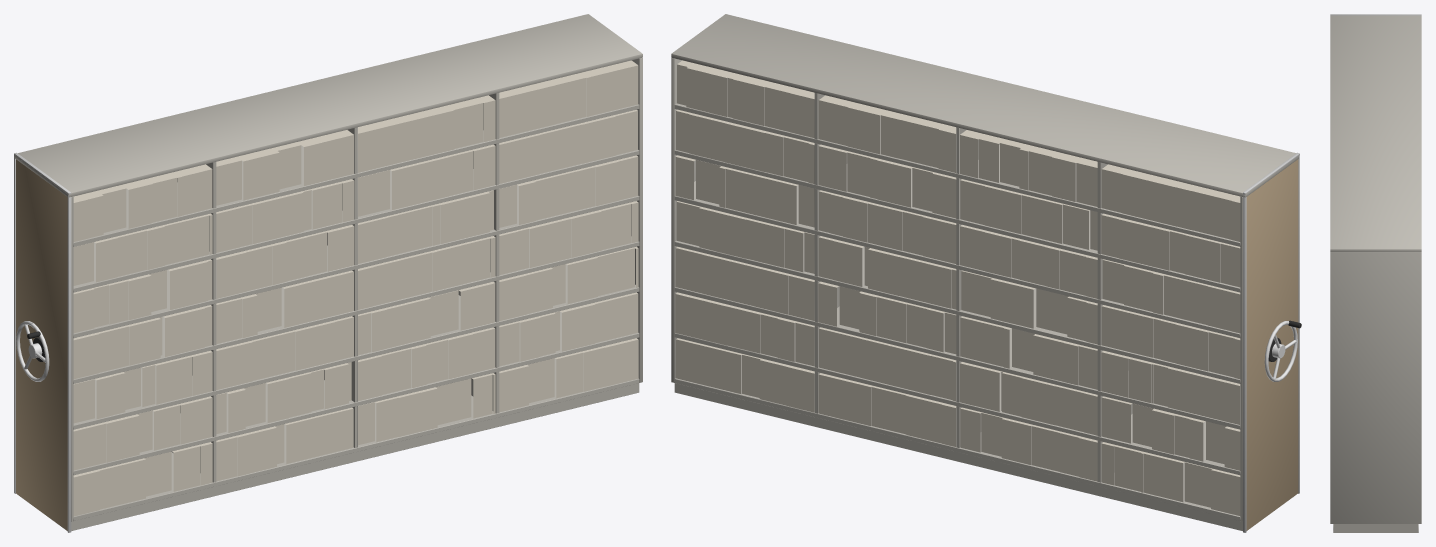
File: Kit_MobileShelving_4.fbx
3 renders of one model, left to right at view 1: azimuth 30°, elevation 25°; view 2: azimuth 150°, elevation 25°; view 3: azimuth 270°, elevation 25°, orthographic. The views are drawn at different scales.
Parts seen in each view (by area): view 1: Kit_MobileShelving_4_LOD0; view 2: Kit_MobileShelving_4_LOD0; view 3: Kit_MobileShelving_4_LOD0.
Boxes of the visible parts, left/top/right/bottom form: Kit_MobileShelving_4_LOD0: left=14, top=14, right=642, bottom=532; Kit_MobileShelving_4_LOD0: left=671, top=14, right=1301, bottom=532; Kit_MobileShelving_4_LOD0: left=1330, top=14, right=1421, bottom=532.
Size of what is drawn, in the model's own units: 3.84 by 2.1 by 0.61.
